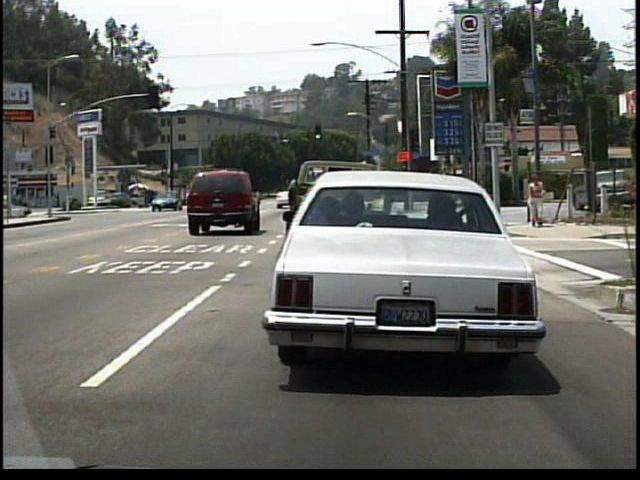person: (527, 173, 547, 231)
